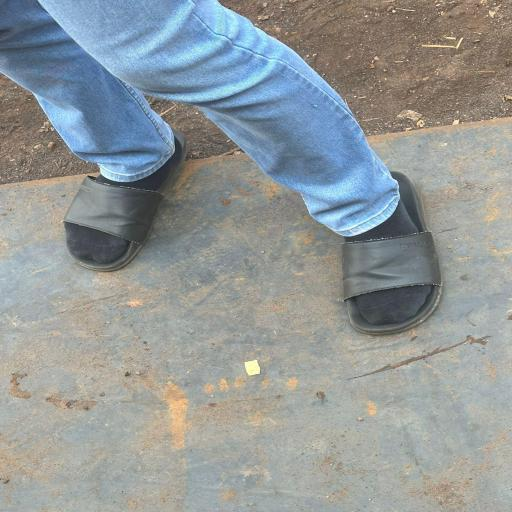not_safety_shoe: (329, 170, 452, 336), (61, 110, 173, 274)
